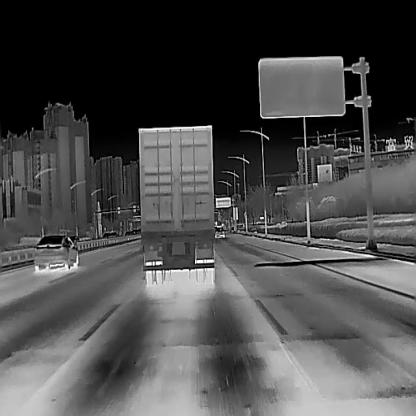car: (33, 233, 79, 269), (214, 224, 225, 236), (108, 231, 120, 237)
truck: (138, 124, 214, 282)
